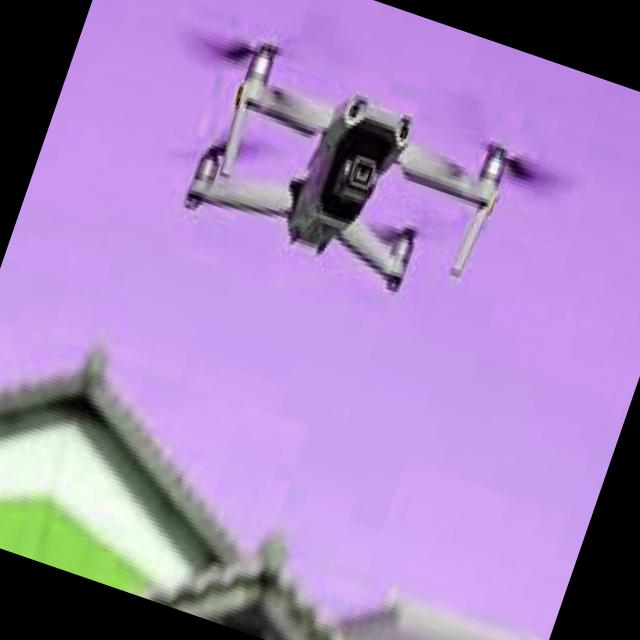drone: (125, 0, 570, 346)
